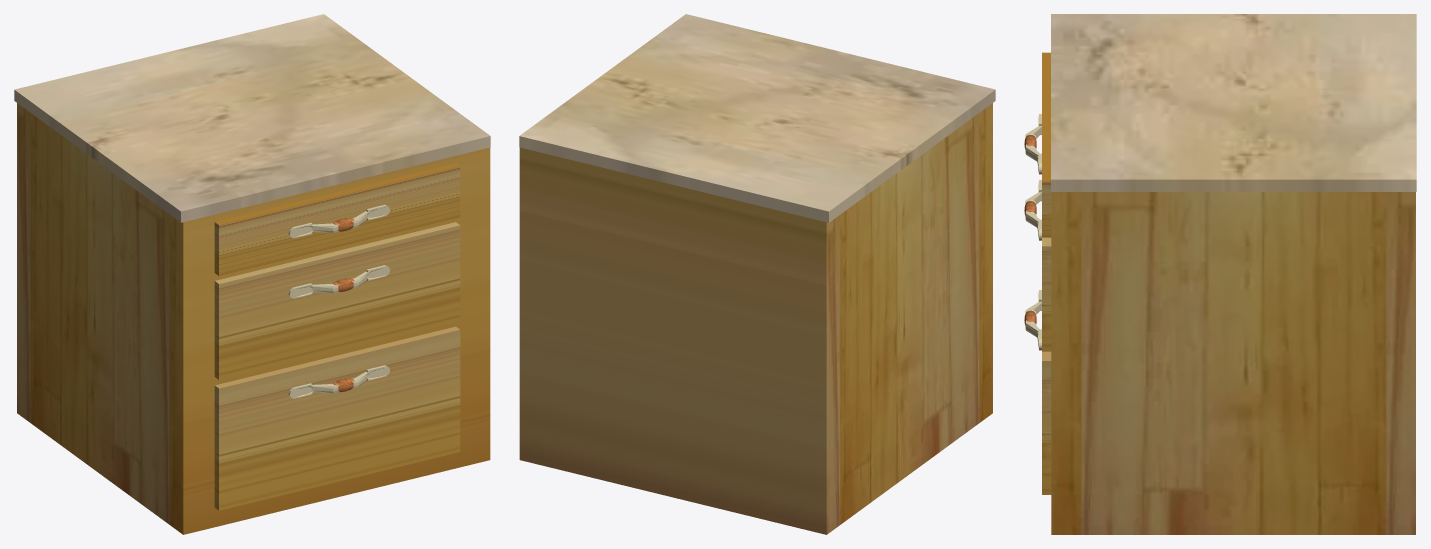
The model's file is sh-contrib-3-drawer-cabinet.glb.
3 views of the same model, side by side, from view 1: azimuth 30°, elevation 25°; view 2: azimuth 150°, elevation 25°; view 3: azimuth 270°, elevation 25° (orthographic). The views are drawn at different scales.
Parts seen in each view (by area): view 1: Cube_3, PolyMesh_2, Tube_1, PolyMesh_1; view 2: Cube_3, PolyMesh_2; view 3: Cube_3, PolyMesh_2, Tube_1.
Boxes of the visible parts, x1,y1,x2,y2 form: Cube_3: [17, 103, 490, 534]; PolyMesh_2: [14, 14, 490, 222]; Tube_1: [288, 205, 389, 398]; PolyMesh_1: [332, 218, 354, 392]; Cube_3: [519, 103, 992, 534]; PolyMesh_2: [519, 14, 995, 222]; Cube_3: [1042, 52, 1415, 534]; PolyMesh_2: [1051, 14, 1416, 191]; Tube_1: [1025, 114, 1041, 350].
Bounding box in the file's own units: 1 × 1 × 1.
Materials: 4 (3 with a texture image).
